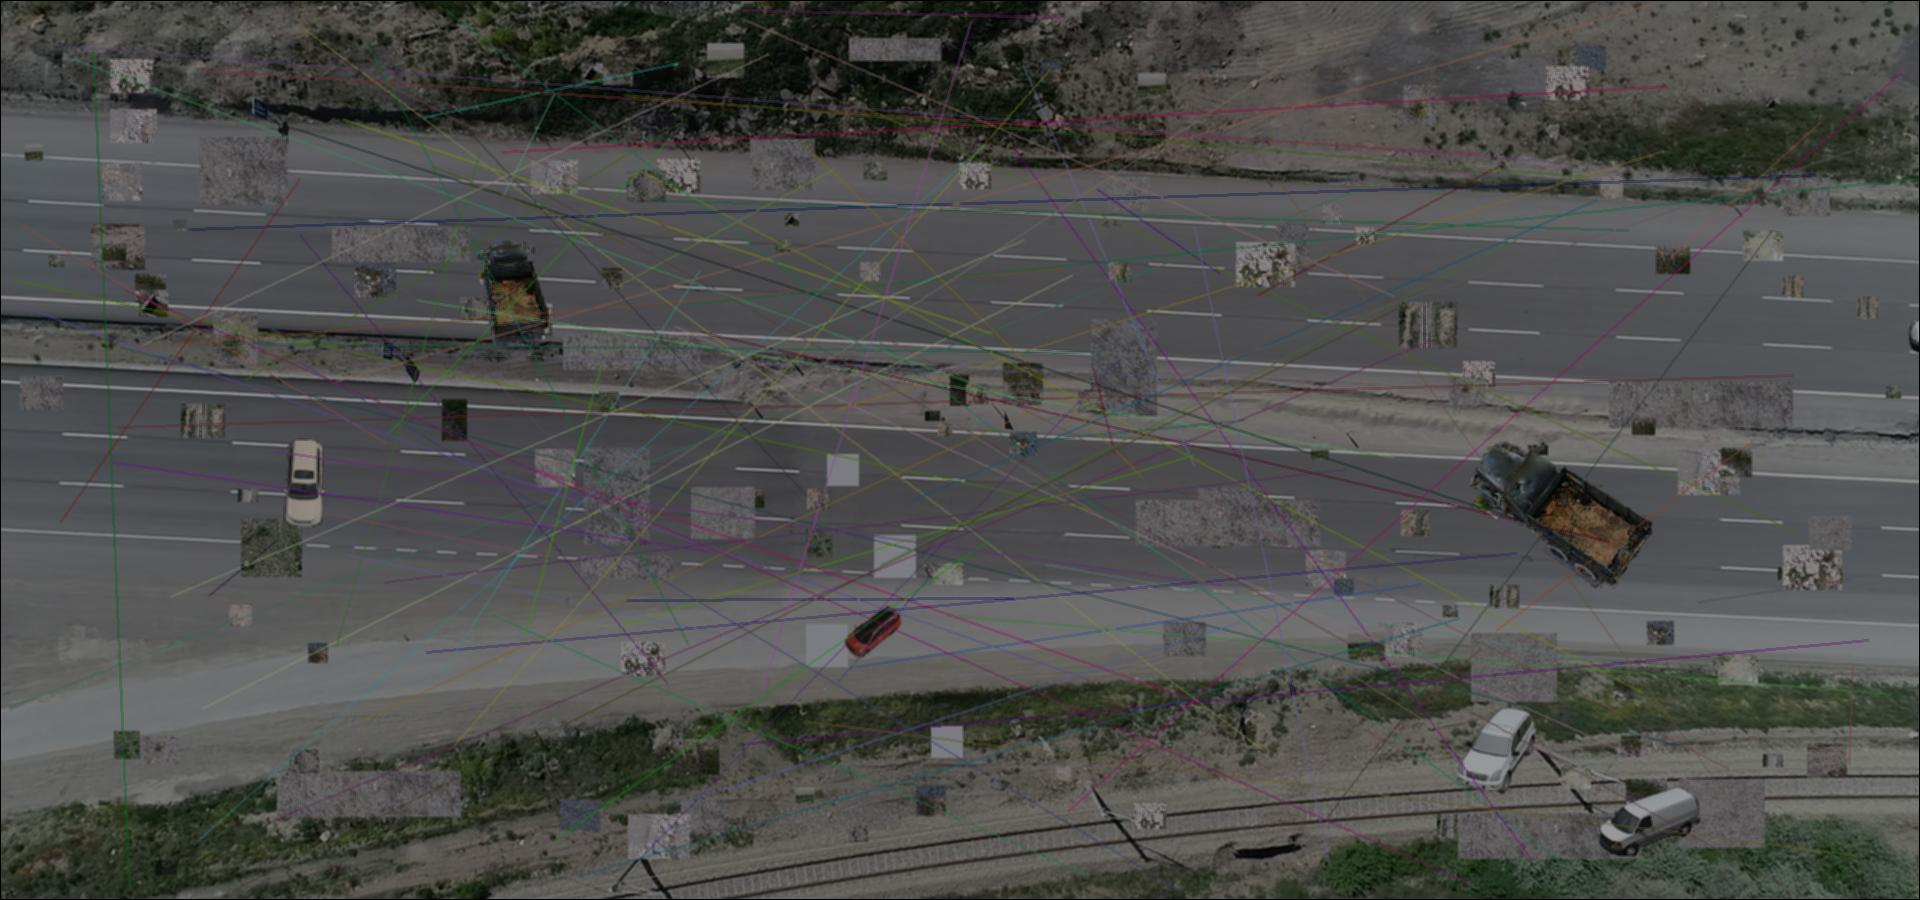arac: (1464, 435, 1653, 591), (1451, 705, 1542, 801), (473, 240, 551, 344), (1599, 787, 1700, 856), (280, 440, 328, 528), (838, 606, 902, 658)
